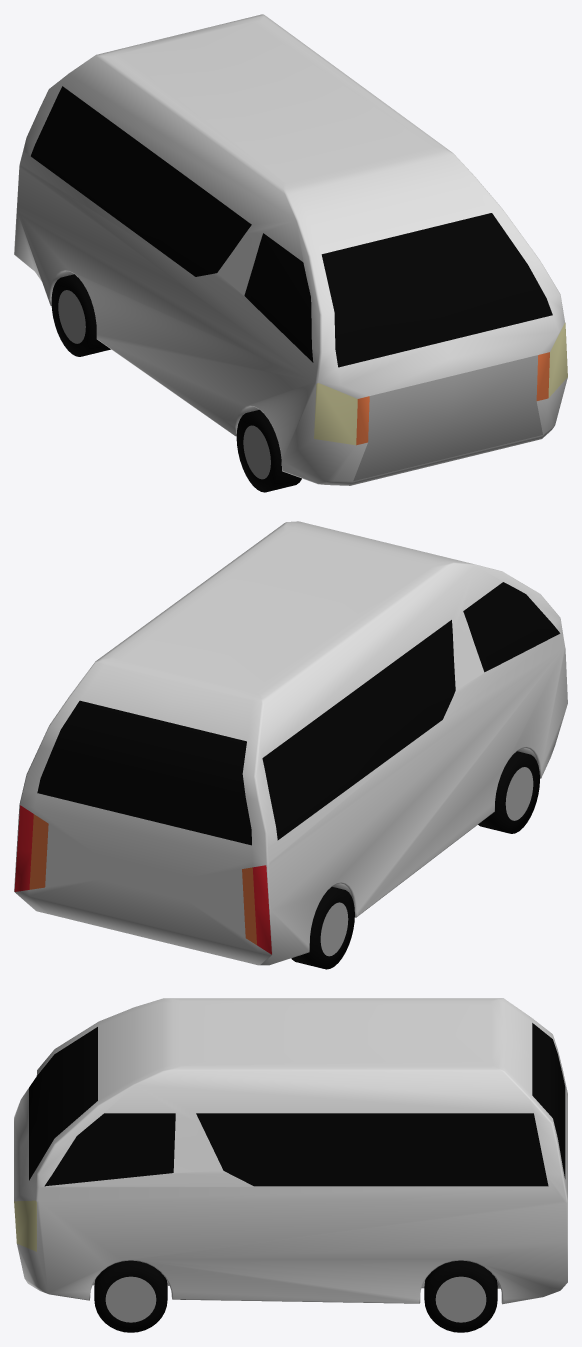
Rendered from Low Poly Quantum.fbx.
3 views of the same model, one above another, from view 1: azimuth 30°, elevation 25°; view 2: azimuth 150°, elevation 25°; view 3: azimuth 270°, elevation 25° (orthographic). The views are drawn at different scales.
Visible parts, largest first — view 1: Cube, Cylinder.001; view 2: Cube, Cylinder.001; view 3: Cube, Cylinder.001.
Part boxes in pixels (x1,y1,x2,y2): Cube: (14,14,567,485); Cylinder.001: (51,274,301,492); Cube: (14,521,567,965); Cylinder.001: (291,751,539,969); Cube: (14,998,567,1304); Cylinder.001: (94,1260,497,1332).
Bounding box in the file's own units: 1711 × 1686 × 3500.
